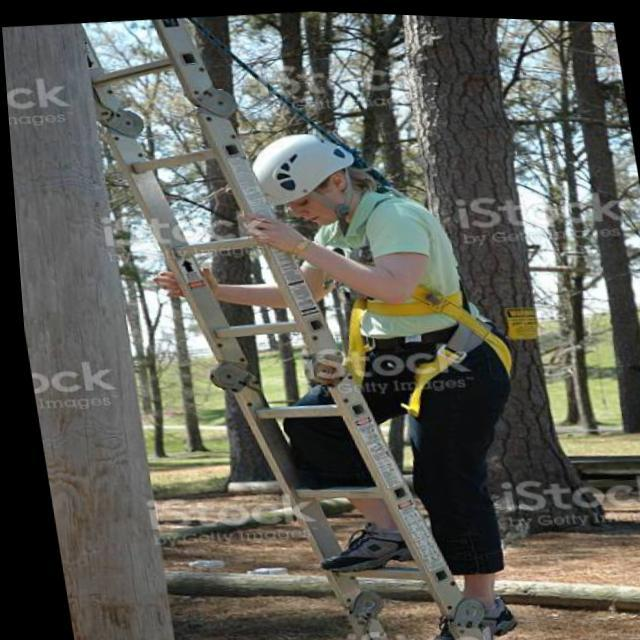belt: (314, 178, 526, 420)
